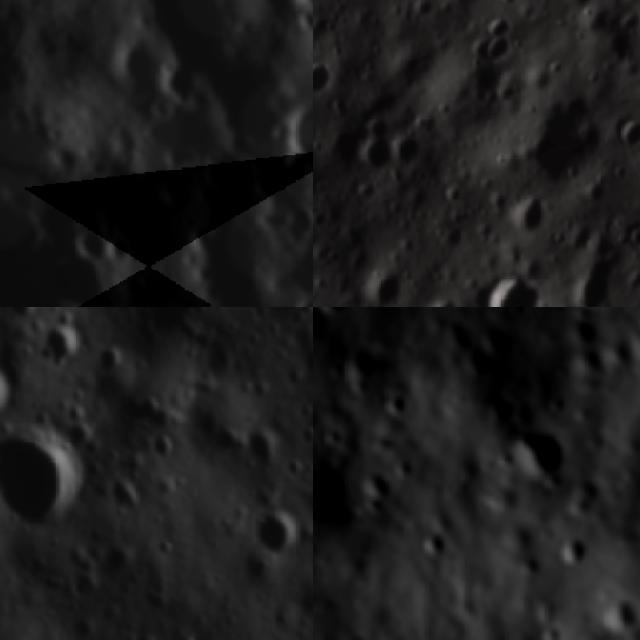crater: (486, 60, 630, 204), (0, 429, 86, 535), (96, 25, 176, 104), (262, 79, 313, 198), (339, 103, 416, 181), (466, 2, 543, 79), (480, 257, 578, 307), (352, 244, 428, 307), (63, 214, 129, 278), (512, 426, 575, 480), (506, 186, 564, 244), (124, 307, 215, 342), (248, 511, 298, 562), (38, 322, 88, 372), (313, 41, 349, 106), (236, 425, 284, 472), (562, 312, 612, 351), (139, 87, 183, 131), (100, 478, 145, 518), (600, 590, 640, 633), (95, 338, 131, 382), (101, 543, 136, 585), (0, 366, 21, 432), (361, 468, 396, 505), (482, 322, 518, 356), (313, 464, 331, 530), (144, 432, 178, 464), (560, 532, 589, 568), (347, 346, 378, 378), (484, 396, 516, 424), (419, 529, 450, 557), (385, 385, 409, 421), (280, 282, 313, 307), (322, 418, 348, 449), (518, 552, 546, 578), (79, 0, 137, 12), (494, 447, 516, 478), (536, 617, 563, 640), (337, 626, 380, 640), (329, 358, 348, 382), (350, 376, 371, 396)
